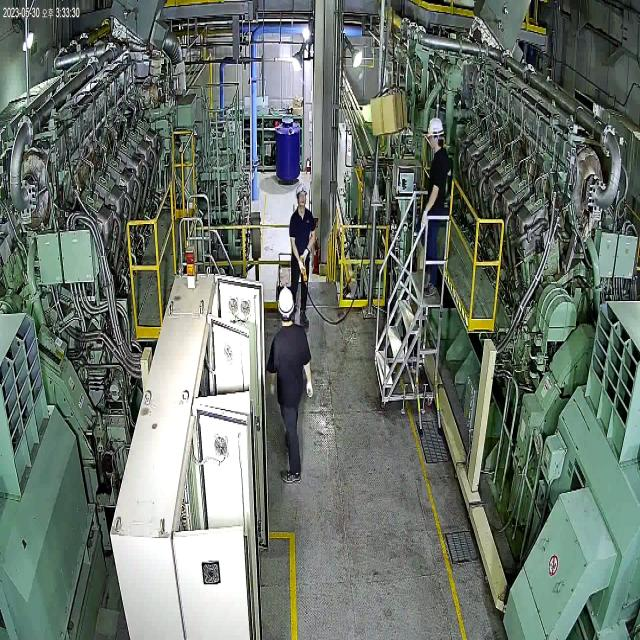Water Tank: (271, 110, 305, 188)
worker: (262, 285, 322, 489), (418, 111, 454, 299), (287, 177, 323, 334)
